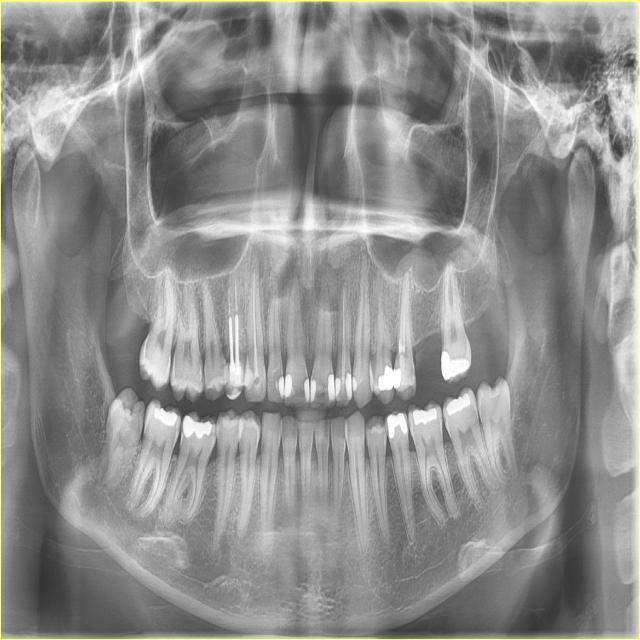Filling: (245, 354, 266, 399), (441, 350, 470, 381), (224, 367, 251, 400), (393, 355, 414, 388), (183, 416, 212, 438), (446, 393, 470, 415), (387, 413, 408, 438), (337, 371, 352, 403), (154, 407, 178, 427), (413, 407, 437, 425), (378, 366, 394, 391), (285, 374, 295, 398), (275, 376, 285, 399), (328, 374, 335, 400), (304, 378, 310, 405), (311, 379, 317, 403), (352, 375, 358, 392)
Missing teeth: (416, 357, 437, 366)
Periapical lesion: (76, 480, 103, 514), (250, 242, 265, 279)
Root Canal Treatment: (253, 271, 259, 379), (340, 287, 346, 385), (402, 279, 408, 353), (235, 282, 238, 312), (228, 289, 231, 315)
impacted tooth: (93, 395, 145, 491)
